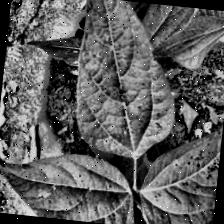ALS: (66, 0, 184, 163), (135, 91, 224, 224), (0, 150, 140, 224)
